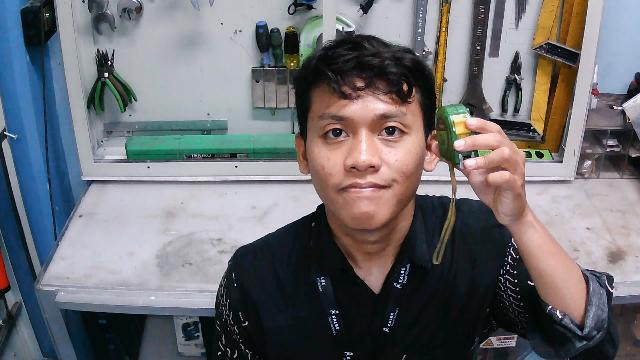meteran: (428, 94, 479, 177)
